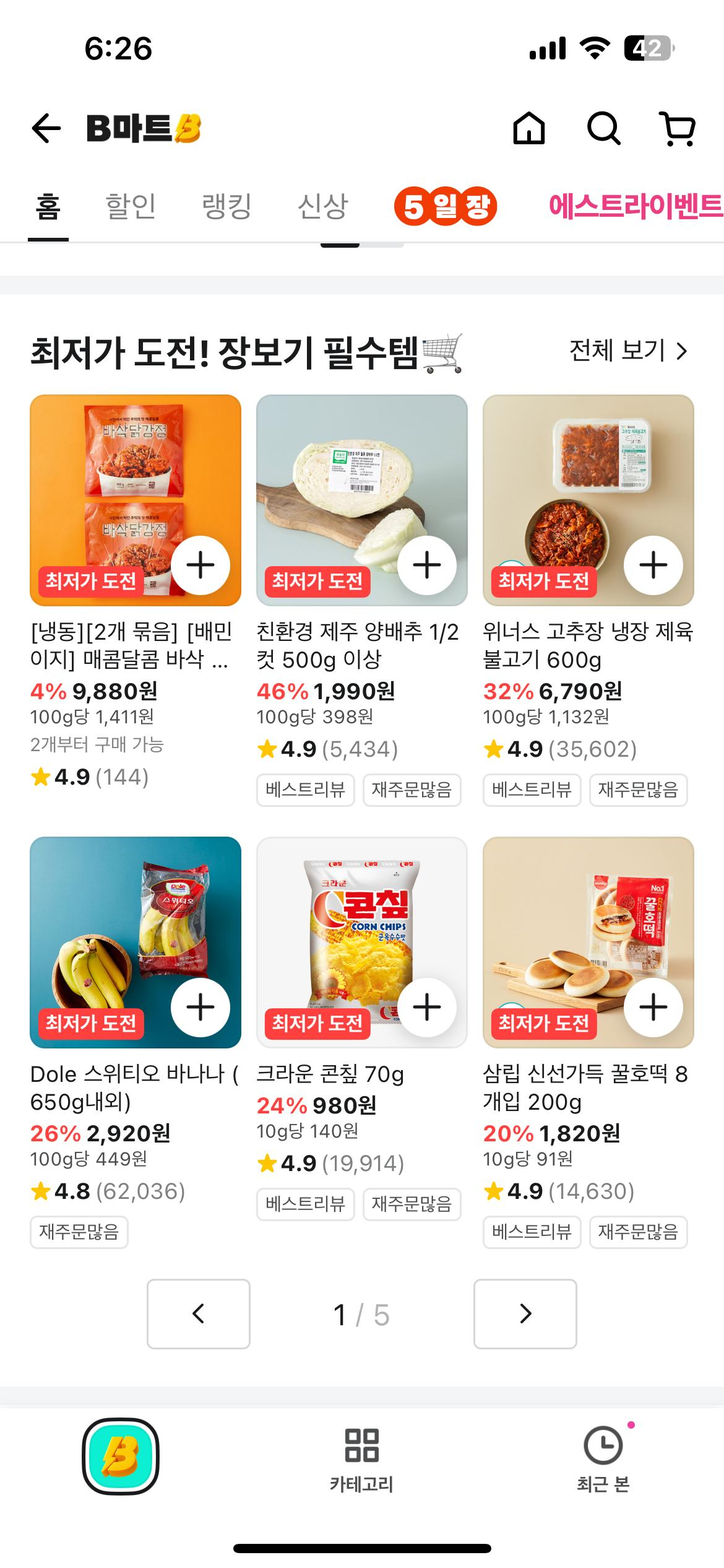button: (142, 1268, 259, 1358), (468, 1275, 583, 1356), (544, 180, 724, 230), (561, 321, 702, 378), (322, 1414, 407, 1505), (79, 1411, 164, 1500), (561, 1416, 651, 1500), (388, 180, 502, 230), (165, 975, 236, 1039), (621, 531, 683, 599), (166, 532, 231, 595), (397, 532, 459, 598), (622, 975, 684, 1040), (397, 974, 457, 1039), (649, 99, 706, 155), (20, 187, 77, 242), (576, 102, 631, 156), (291, 185, 354, 228), (506, 102, 555, 157), (101, 188, 162, 229), (198, 185, 256, 228), (23, 103, 70, 153)
